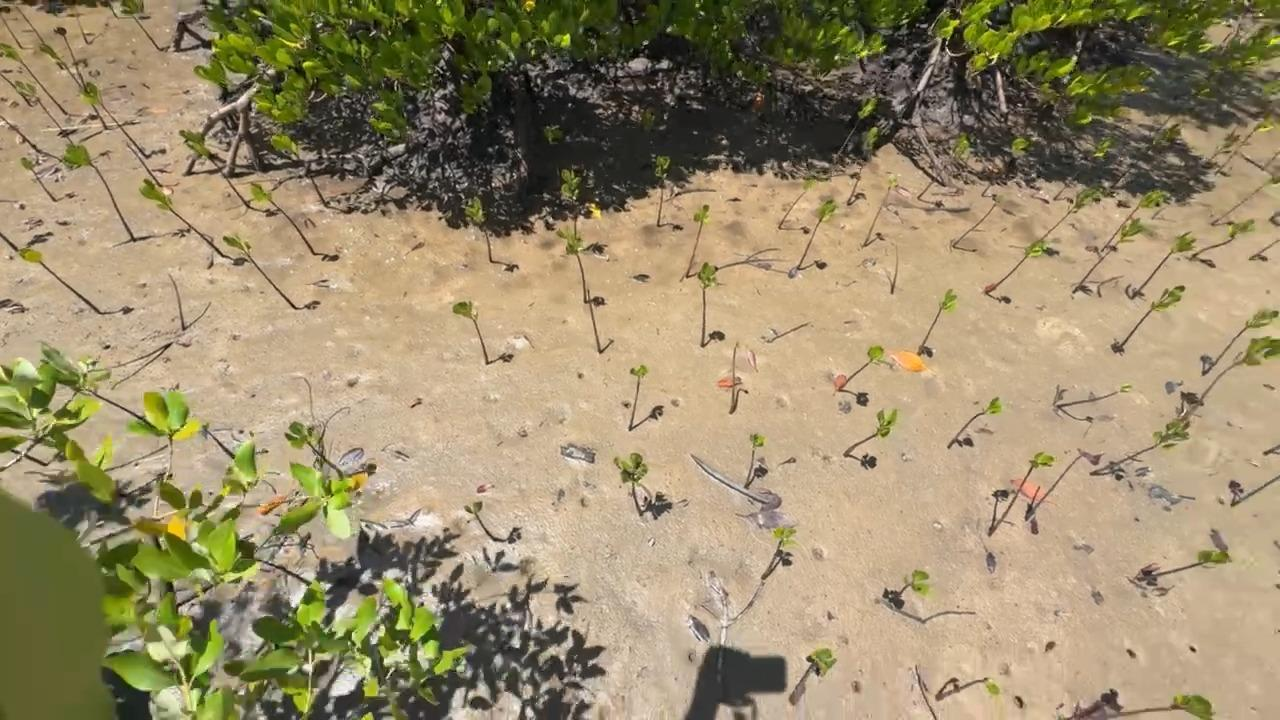Tree: (1181, 335, 1280, 421), (62, 144, 138, 242), (139, 177, 225, 258), (38, 43, 109, 130), (1023, 449, 1105, 521), (987, 452, 1055, 538), (1089, 418, 1191, 475), (18, 248, 104, 315), (1072, 217, 1146, 294), (222, 235, 298, 309), (178, 129, 251, 206), (79, 81, 149, 158), (1199, 310, 1279, 377), (0, 43, 68, 116), (249, 182, 316, 255), (1115, 285, 1186, 353), (1108, 123, 1180, 188), (1100, 189, 1173, 252), (1130, 231, 1197, 299), (1214, 109, 1278, 176), (1210, 166, 1280, 227), (270, 135, 326, 208), (1039, 182, 1106, 241), (1052, 136, 1113, 200), (1064, 694, 1214, 720), (916, 132, 970, 200), (283, 421, 345, 480), (985, 241, 1050, 295), (833, 97, 880, 165), (795, 198, 839, 270), (1136, 549, 1232, 582), (1156, 80, 1211, 134), (981, 138, 1031, 197), (947, 396, 1002, 449), (1187, 219, 1254, 262), (789, 647, 837, 706), (952, 195, 1003, 249), (843, 408, 898, 458), (917, 289, 958, 356), (862, 174, 899, 248), (846, 126, 879, 207), (14, 80, 65, 131), (555, 225, 588, 303), (53, 26, 89, 95), (452, 300, 489, 365), (613, 452, 649, 517), (728, 340, 759, 415), (836, 346, 884, 393), (119, 0, 161, 52), (685, 204, 713, 279), (760, 525, 798, 580), (777, 178, 817, 230), (464, 196, 494, 263), (696, 262, 718, 349), (84, 389, 143, 421), (4, 0, 45, 46), (1057, 383, 1132, 408), (19, 158, 58, 202), (540, 123, 565, 187), (1230, 475, 1280, 507), (1200, 128, 1240, 168), (255, 558, 312, 586), (935, 677, 1001, 701), (0, 115, 41, 153), (197, 420, 235, 459), (561, 169, 582, 239), (889, 569, 930, 603), (652, 155, 671, 227), (463, 501, 496, 542), (628, 365, 648, 432), (744, 433, 766, 490), (0, 72, 33, 109), (0, 6, 25, 50), (587, 289, 602, 355), (167, 274, 184, 331), (70, 0, 90, 45), (890, 234, 902, 295), (1248, 238, 1280, 260), (10, 450, 48, 466), (1261, 150, 1280, 171), (0, 232, 19, 252), (104, 0, 119, 21), (1262, 444, 1280, 457), (1268, 211, 1280, 222)
